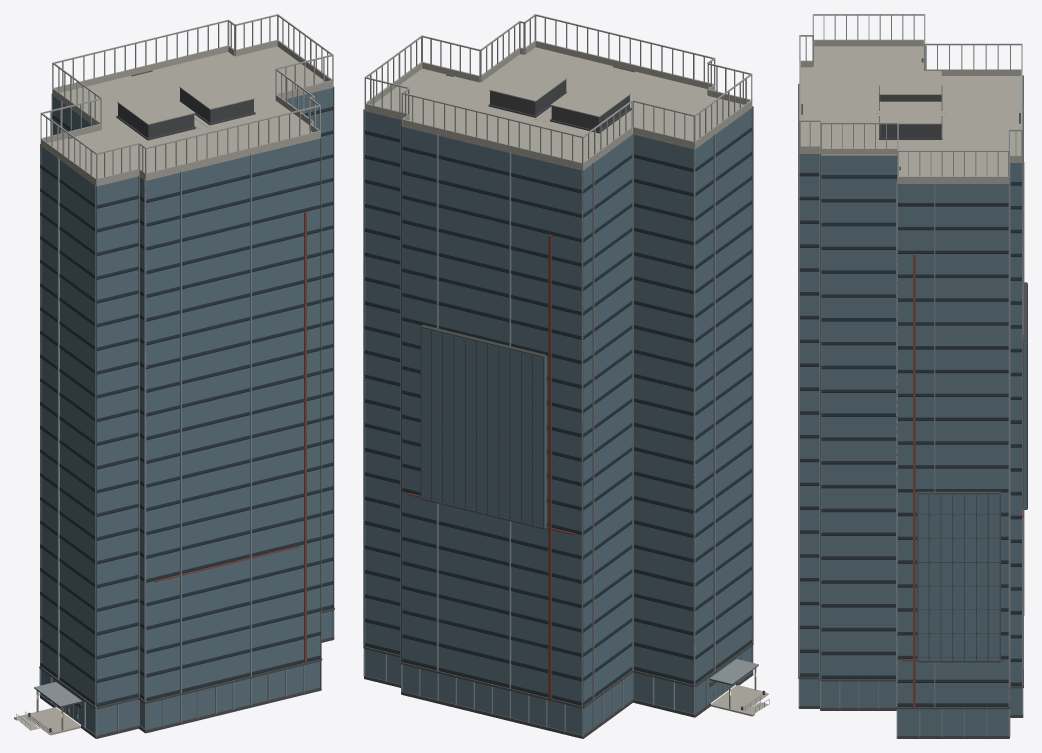
File: building-t2-lod2.glb
3 renders of one model, left to right at view 1: azimuth 30°, elevation 25°; view 2: azimuth 150°, elevation 25°; view 3: azimuth 270°, elevation 25°, orthographic. The views are drawn at different scales.
Parts seen in each view (by area): view 1: building-t2_MATERIAL_BATCH; view 2: building-t2_MATERIAL_BATCH; view 3: building-t2_MATERIAL_BATCH.
Boxes of the visible parts, x1,y1,x2,y2 form: building-t2_MATERIAL_BATCH: [14, 14, 334, 738]; building-t2_MATERIAL_BATCH: [363, 14, 769, 738]; building-t2_MATERIAL_BATCH: [798, 14, 1027, 738].
Size of the model in its own units: 64.51 by 111 by 39.33.
